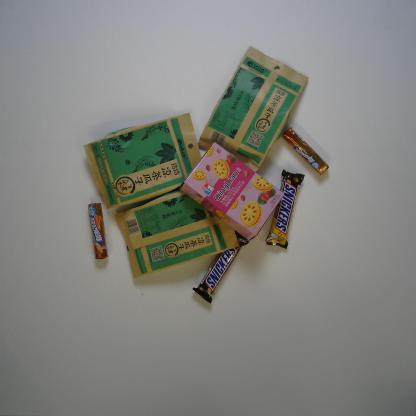Candy: (282, 127, 330, 176), (88, 203, 108, 260)
Chocolate: (192, 229, 250, 304), (265, 169, 305, 249)
Dessert: (180, 142, 284, 241)
Dried Food: (197, 46, 309, 172), (114, 184, 240, 278), (83, 112, 203, 209)
